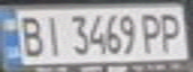3: (66, 11, 90, 56)
4: (87, 11, 106, 55)
6: (103, 10, 124, 55)
9: (118, 10, 142, 55)
B: (15, 11, 48, 58)
I: (39, 11, 66, 57)
P: (136, 9, 166, 54), (157, 9, 187, 54)
